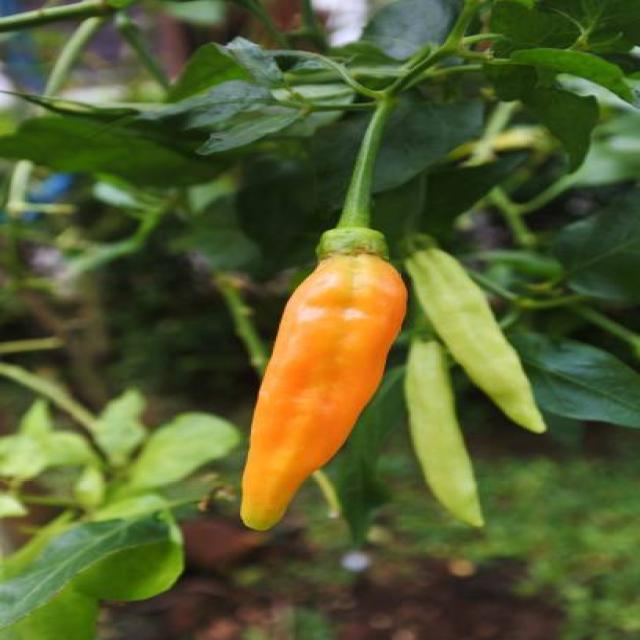Ripe: (238, 246, 408, 534)
